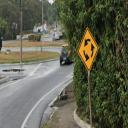Rotatoria: (78, 26, 99, 73)
